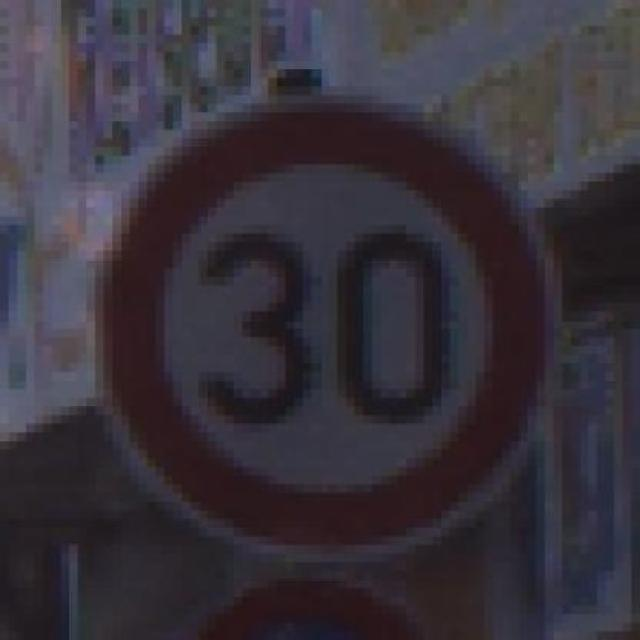Speed Limit 30 KMPh: (78, 69, 572, 562)
